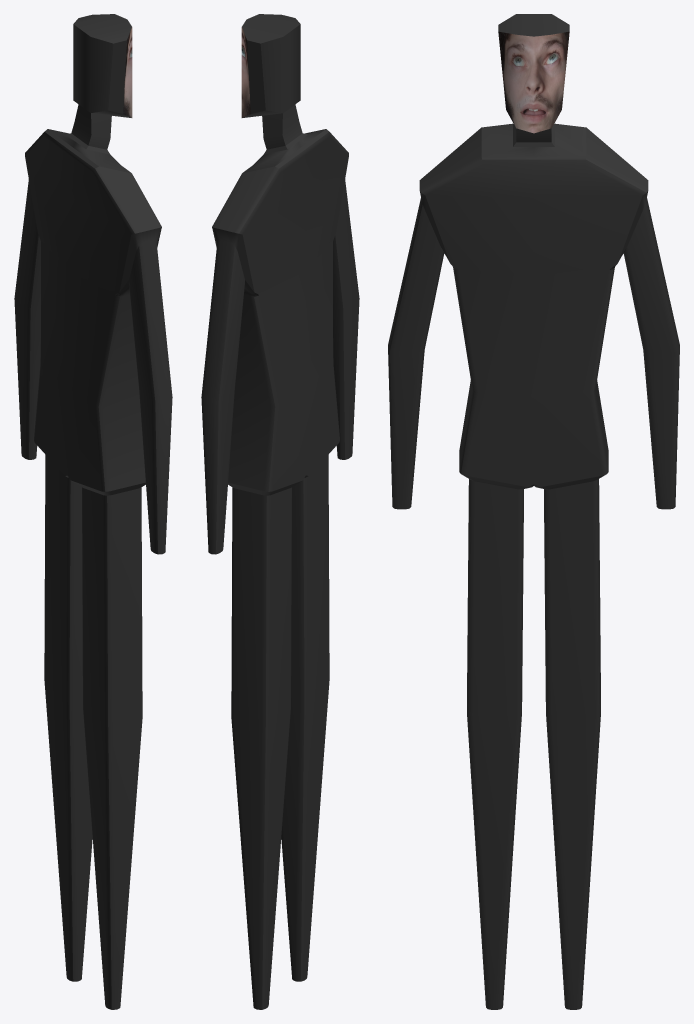
The model's file is rabbit_dead.fbx.
3 views of the same model, side by side, from view 1: azimuth 30°, elevation 25°; view 2: azimuth 150°, elevation 25°; view 3: azimuth 270°, elevation 25° (orthographic). The views are drawn at different scales.
Visible parts, largest first — view 1: rabbit_dead; view 2: rabbit_dead; view 3: rabbit_dead.
Part boxes in pixels (x1,y1,x2,y2): rabbit_dead: [14, 14, 172, 1009]; rabbit_dead: [201, 14, 359, 1009]; rabbit_dead: [388, 14, 679, 1009].
Size of the model in its own units: 0.7035 by 10.93 by 2.93.
